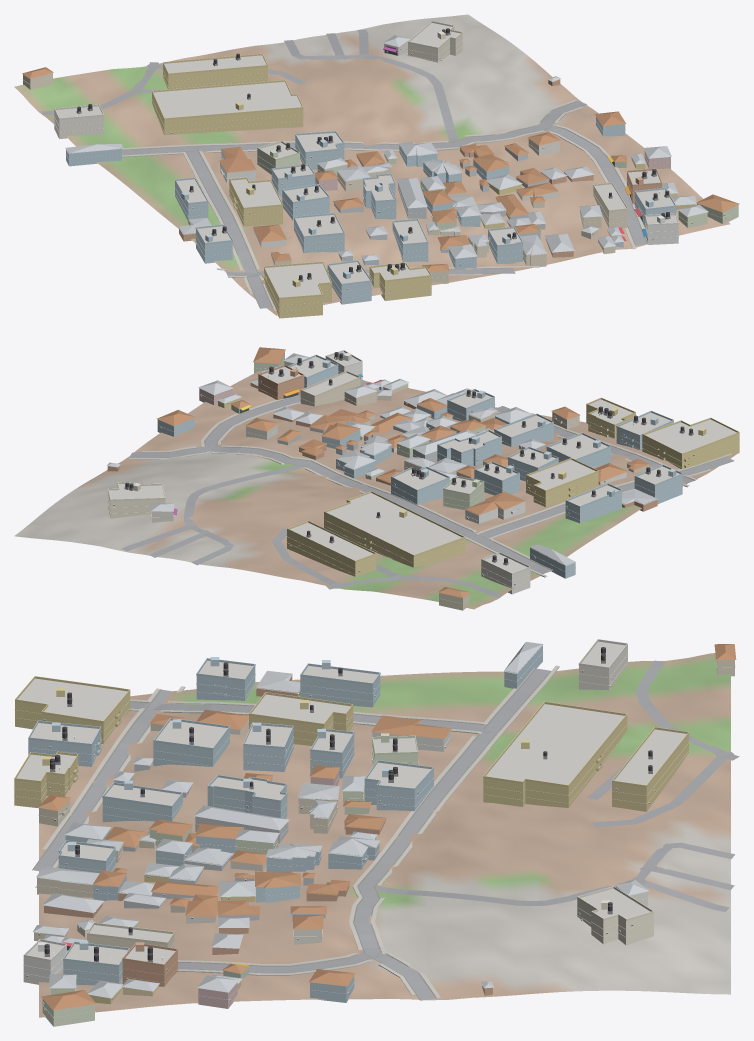
3 views of the same model, one above another, from view 1: azimuth 30°, elevation 25°; view 2: azimuth 150°, elevation 25°; view 3: azimuth 270°, elevation 25° (orthographic). The views are drawn at different scales.
Visible parts, largest first — view 1: Buildings-col, Terrain-col, Details, Roads-col, Sidewalks-col; view 2: Buildings-col, Terrain-col, Details, Roads-col, Sidewalks-col; view 3: Terrain-col, Buildings-col, Details, Roads-col, Sidewalks-col.
Part boxes in pixels (bbox=[...]): Buildings-col: bbox=[22, 23, 739, 318]; Terrain-col: bbox=[14, 14, 730, 315]; Details: bbox=[23, 21, 738, 311]; Roads-col: bbox=[41, 29, 647, 308]; Sidewalks-col: bbox=[122, 99, 649, 310]; Buildings-col: bbox=[107, 347, 739, 610]; Terrain-col: bbox=[14, 363, 739, 609]; Details: bbox=[108, 350, 739, 603]; Roads-col: bbox=[121, 380, 734, 597]; Sidewalks-col: bbox=[128, 380, 731, 577]; Terrain-col: bbox=[39, 653, 730, 1017]; Buildings-col: bbox=[14, 641, 736, 1026]; Details: bbox=[14, 639, 735, 1018]; Roads-col: bbox=[32, 660, 739, 1000]; Sidewalks-col: bbox=[35, 665, 559, 997].
Bounding box in the file's own units: 277 × 37.6 × 269.
